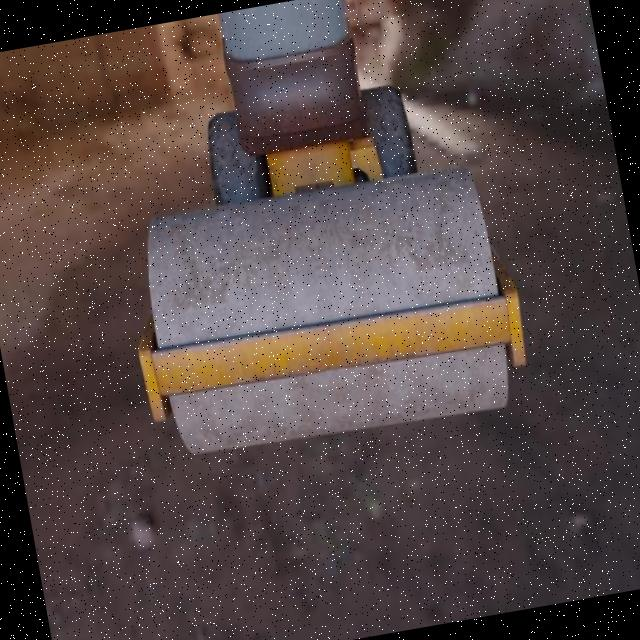Roller: (82, 0, 536, 469)
